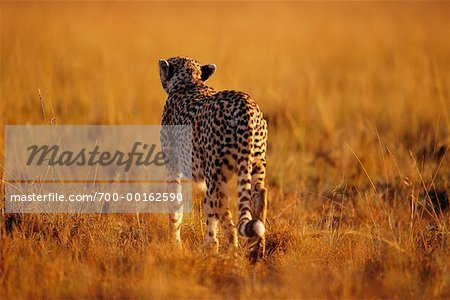Cheetah: (153, 51, 273, 269)
